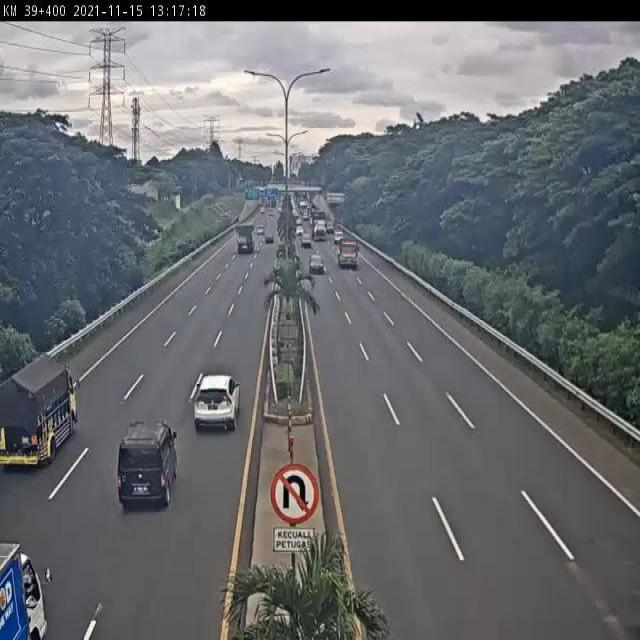big truck: (333, 235, 360, 268)
car: (115, 416, 180, 511), (190, 370, 243, 434), (308, 252, 325, 279)
truck-m-: (0, 351, 79, 472)
